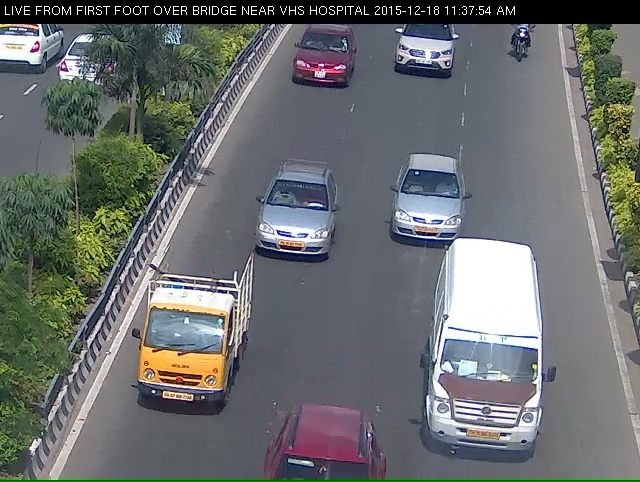Auto: (120, 254, 249, 447)
Bus: (418, 262, 553, 479)
Car: (241, 171, 346, 272), (373, 159, 473, 255), (379, 17, 466, 85), (257, 436, 382, 482), (290, 27, 353, 107)
Person: (507, 20, 541, 76)
